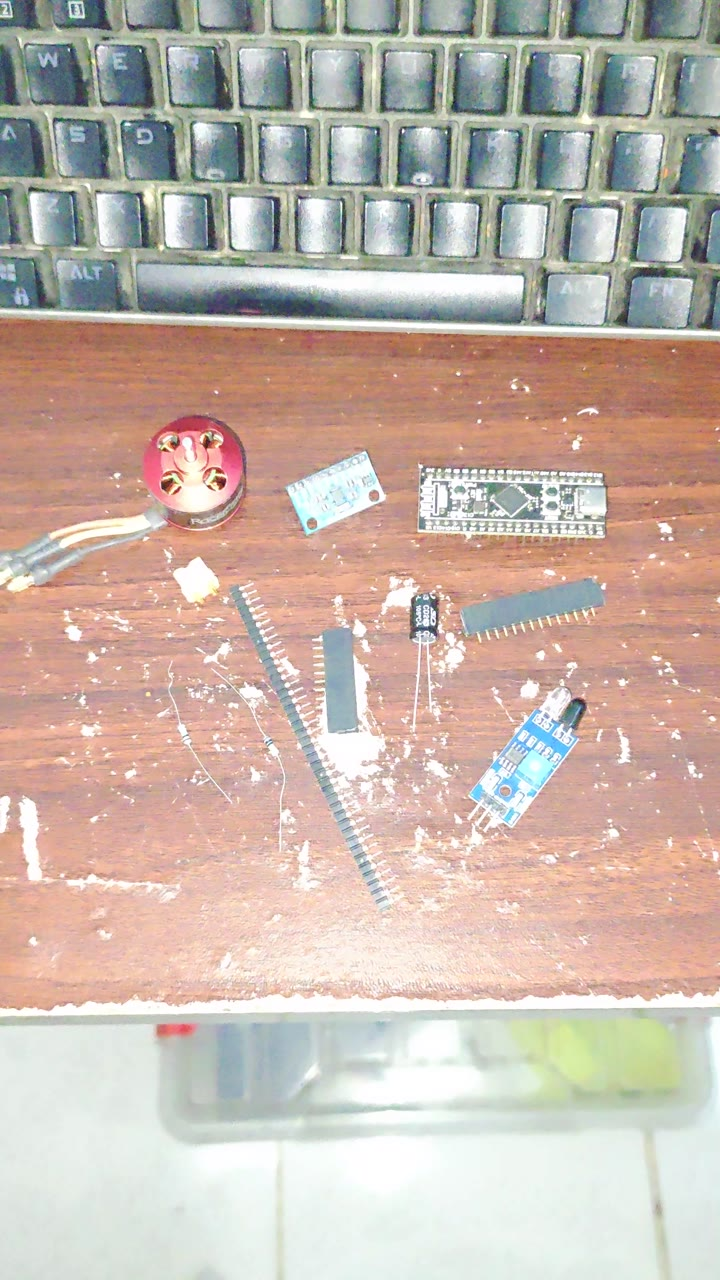bldc_motor: (41, 409, 253, 537)
elco_capacitor: (430, 568, 492, 680)
ir_sensor: (494, 680, 589, 832)
mpu6500: (295, 447, 439, 536)
pin_header: (255, 578, 464, 906), (489, 543, 642, 646), (341, 597, 419, 721)
resistor: (261, 669, 353, 822), (183, 668, 273, 792)
stm32f4: (428, 465, 613, 534)
xt30_female: (188, 527, 278, 616)
